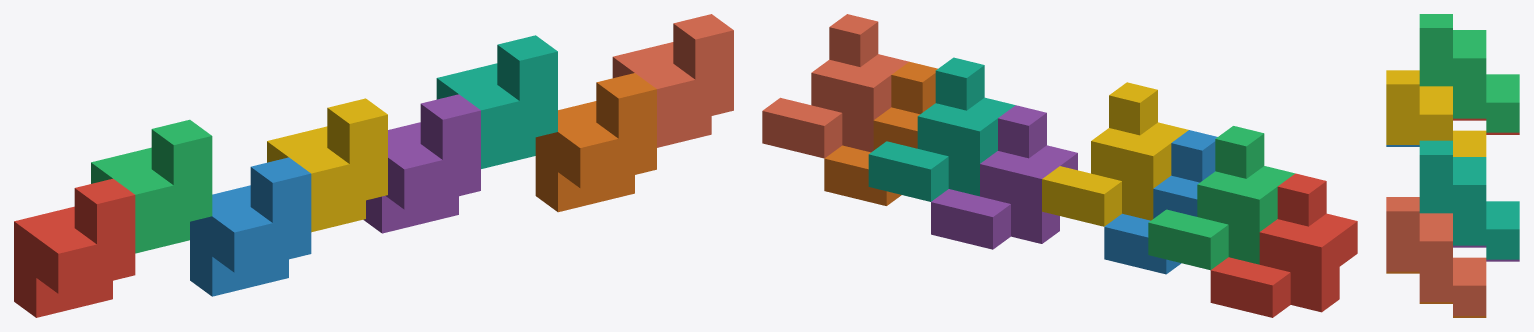
Rendered from tiling.obj.
The picture shows the model from 3 angles, left to right: view 1: azimuth 30°, elevation 25°; view 2: azimuth 150°, elevation 25°; view 3: azimuth 270°, elevation 25°; orthographic projection. The views are drawn at different scales.
Parts seen in each view (by area): view 1: copy_1_domain_1, copy_1_domain_2, copy_1_domain_6, copy_1_domain_5, copy_1_domain_3, copy_1_domain_7, copy_1_domain_8, copy_1_domain_4; view 2: copy_1_domain_1, copy_1_domain_7, copy_1_domain_3, copy_1_domain_8, copy_1_domain_4, copy_1_domain_5, copy_1_domain_6, copy_1_domain_2; view 3: copy_1_domain_8, copy_1_domain_7, copy_1_domain_3, copy_1_domain_4, copy_1_domain_6, copy_1_domain_1, copy_1_domain_5.
Part boxes in pixels (bbox=[...]): copy_1_domain_1: bbox=[14, 178, 135, 317]; copy_1_domain_2: bbox=[190, 157, 311, 296]; copy_1_domain_6: bbox=[535, 73, 656, 212]; copy_1_domain_5: bbox=[363, 94, 480, 233]; copy_1_domain_3: bbox=[91, 119, 212, 253]; copy_1_domain_7: bbox=[436, 35, 557, 168]; copy_1_domain_8: bbox=[612, 14, 733, 147]; copy_1_domain_4: bbox=[267, 98, 387, 232]; copy_1_domain_1: bbox=[1210, 173, 1357, 317]; copy_1_domain_7: bbox=[868, 57, 1015, 201]; copy_1_domain_3: bbox=[1148, 126, 1294, 270]; copy_1_domain_8: bbox=[762, 14, 908, 158]; copy_1_domain_4: bbox=[1042, 82, 1188, 226]; copy_1_domain_5: bbox=[931, 105, 1077, 249]; copy_1_domain_6: bbox=[824, 61, 937, 205]; copy_1_domain_2: bbox=[1104, 130, 1217, 274]; copy_1_domain_8: bbox=[1386, 197, 1486, 315]; copy_1_domain_7: bbox=[1419, 140, 1519, 259]; copy_1_domain_3: bbox=[1419, 14, 1519, 132]; copy_1_domain_4: bbox=[1386, 70, 1486, 156]; copy_1_domain_6: bbox=[1386, 271, 1486, 317]; copy_1_domain_1: bbox=[1453, 118, 1519, 134]; copy_1_domain_5: bbox=[1453, 245, 1519, 261].
Bounding box in the file's own units: 18 × 4 × 4.
